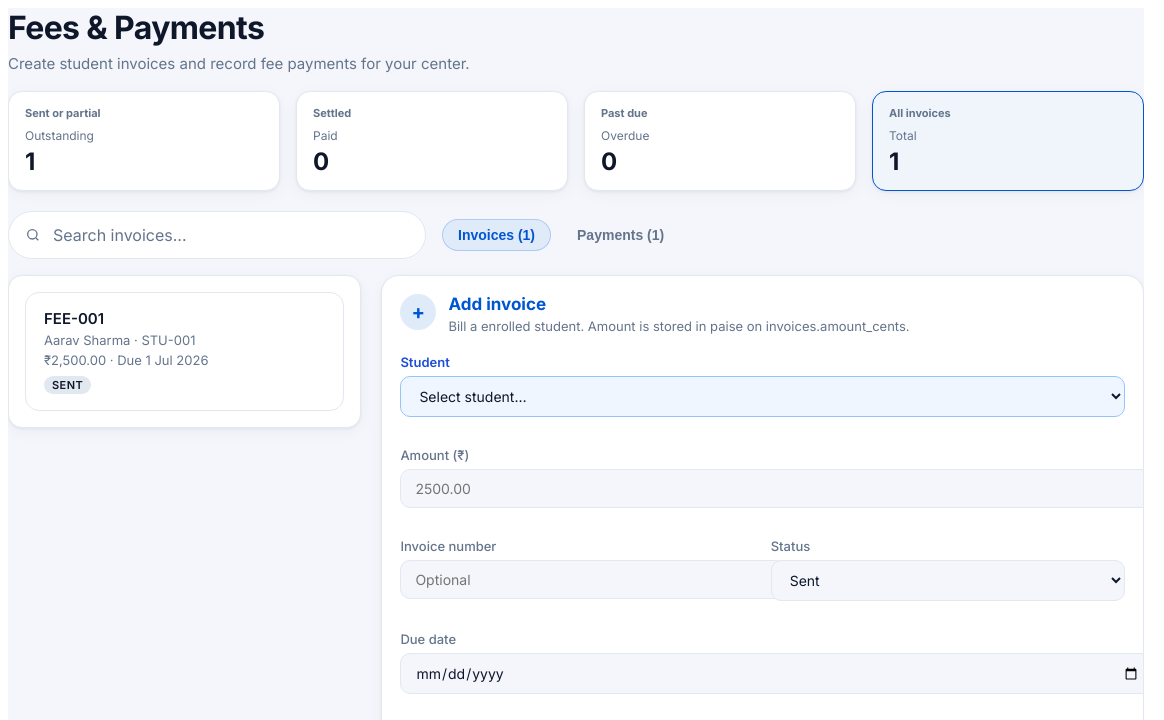
Test: FeesPage › regression_center_fees_lists_invoices_and_payments
This screenshot has width=1164, height=720.
Expected: the heading "Fees & Payments" is shown, x1=8 y1=8 x2=264 y2=47
Expected: the text "FEE-001" is shown, x1=44 y1=309 x2=104 y2=328
Click the tab "Payments (1)".
click(621, 235)  # box x1=561 y1=219 x2=680 y2=251
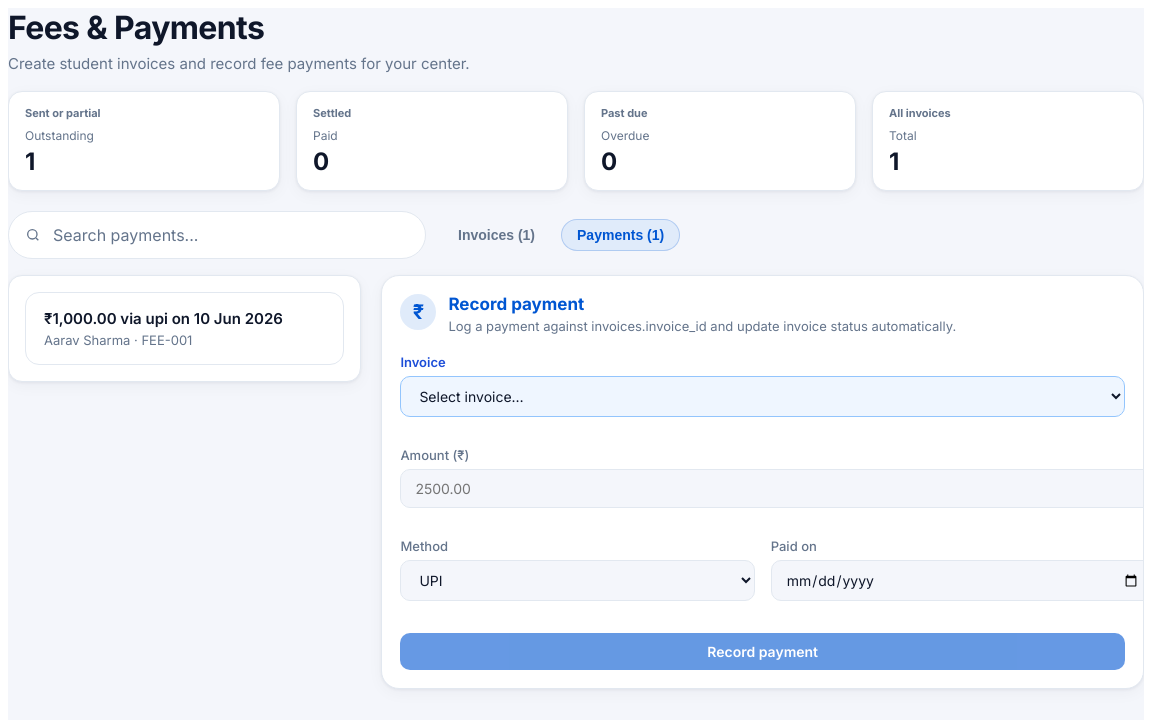
Result: the text "₹1,000.00 via upi on 10 Jun 2026" is shown at x1=44 y1=309 x2=283 y2=328
